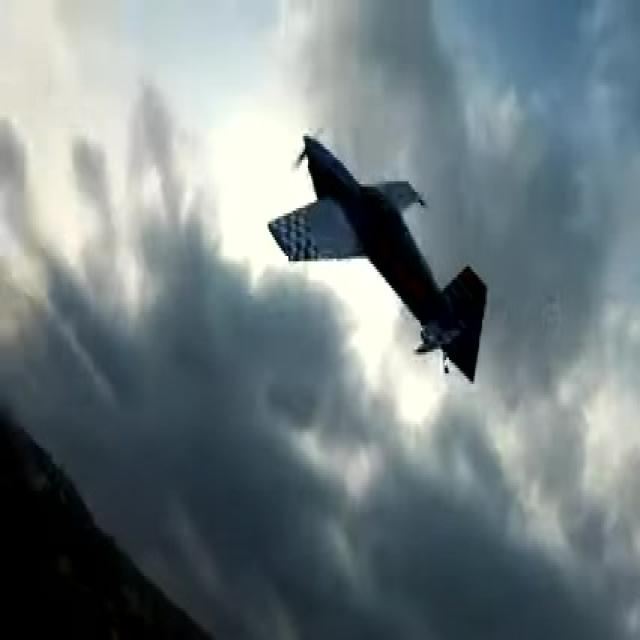iha: (265, 132, 488, 385)
